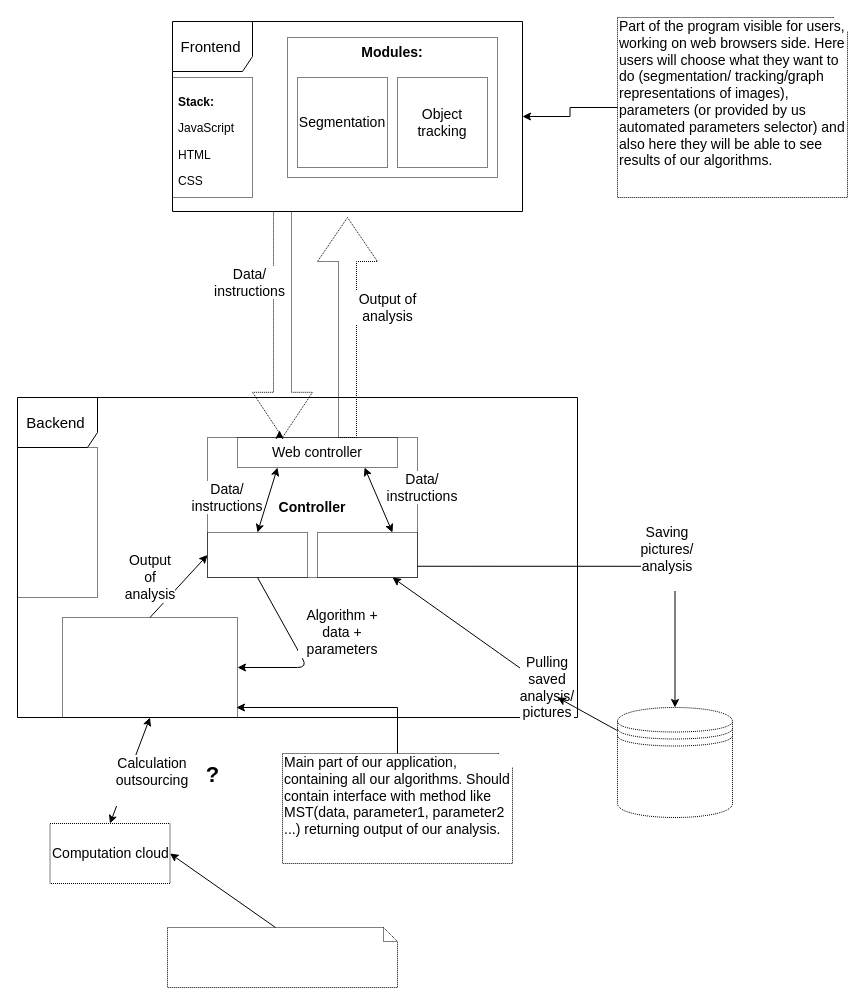
This 865x1005 diagram has some shape labels left out. Each missing label, with the centre of its shape:
Analysis controller: (x=257, y=555)
Analysis module: (x=150, y=667)
Database (MySQL/ MongoDB): (x=674, y=762)
DB controller: (x=367, y=555)
If we would calculate slowest algorithm on some more powerful server: (x=282, y=957)
Stack: Python (Django) Database (MySQL or MongoDB): (x=57, y=522)
